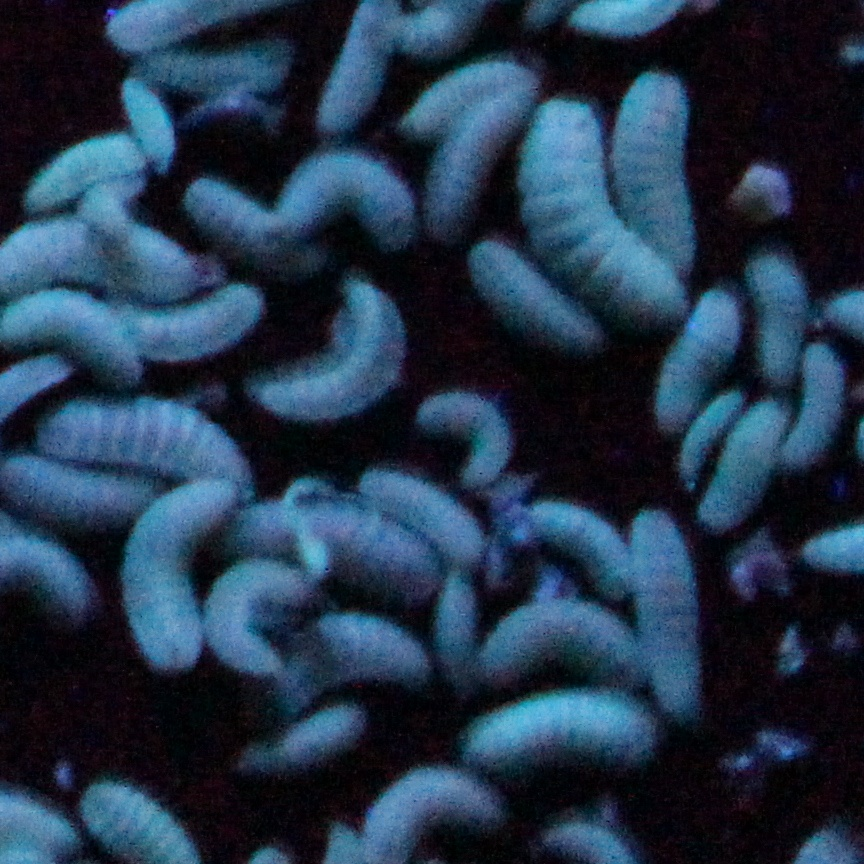larve: (520, 103, 658, 323), (462, 681, 655, 774), (257, 611, 437, 709), (272, 288, 413, 411), (132, 475, 220, 664), (429, 79, 529, 236), (42, 394, 231, 474), (250, 506, 431, 588), (630, 511, 700, 720), (469, 247, 599, 351), (349, 761, 507, 846), (4, 450, 145, 537), (476, 600, 623, 683), (623, 83, 698, 243), (276, 165, 416, 240), (122, 293, 265, 362), (192, 182, 297, 274), (383, 466, 472, 573), (531, 499, 631, 594), (711, 411, 786, 519), (211, 563, 285, 670), (32, 138, 143, 203), (427, 392, 504, 485), (747, 246, 800, 376), (782, 359, 842, 466), (138, 52, 290, 93), (116, 79, 179, 171), (237, 729, 371, 770), (673, 291, 716, 413), (439, 576, 473, 677)
